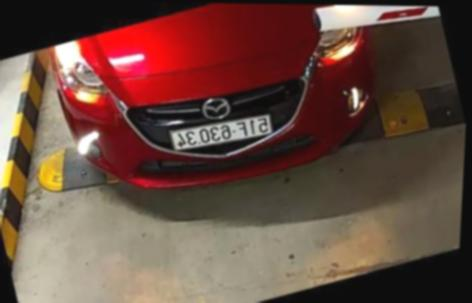License_Plate: (170, 105, 278, 161)
